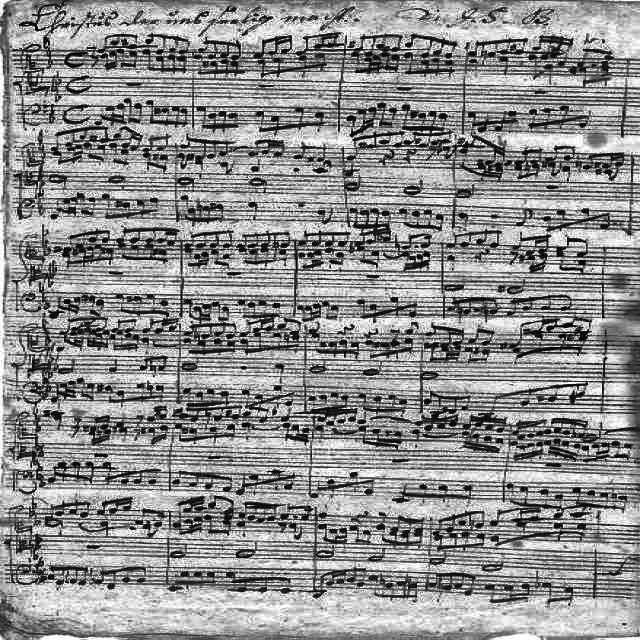Bass-clef: (60, 103, 92, 125), (61, 46, 88, 70), (64, 74, 96, 94)
Bemol: (30, 496, 42, 508), (32, 514, 42, 528), (33, 422, 43, 432), (32, 548, 40, 560), (38, 480, 48, 488), (36, 464, 44, 472)
Eighth-note: (514, 206, 534, 226), (268, 114, 286, 136), (315, 207, 337, 225), (292, 106, 308, 130), (464, 572, 478, 598), (596, 213, 616, 231), (296, 34, 312, 56), (558, 102, 572, 126), (195, 104, 209, 128), (312, 574, 326, 598), (487, 230, 505, 248), (148, 196, 164, 216), (278, 575, 294, 595), (482, 584, 498, 604), (154, 33, 168, 55), (444, 36, 458, 58), (479, 110, 493, 132), (540, 581, 554, 603), (252, 40, 268, 58), (420, 34, 432, 58), (256, 576, 272, 594), (232, 578, 250, 594), (480, 327, 496, 345), (377, 101, 388, 127), (524, 108, 538, 128), (408, 208, 422, 228), (496, 109, 508, 131), (526, 107, 538, 129), (252, 110, 264, 132), (132, 101, 144, 123), (145, 99, 155, 125), (540, 105, 552, 126), (172, 468, 184, 488), (220, 472, 232, 492), (136, 564, 148, 584), (387, 105, 398, 126), (313, 112, 327, 128), (561, 586, 575, 602), (168, 35, 180, 53), (231, 41, 243, 59), (404, 31, 416, 49), (434, 213, 446, 231), (188, 469, 200, 487), (80, 500, 92, 518), (94, 567, 106, 585), (88, 196, 98, 217), (115, 226, 128, 242), (96, 499, 108, 516), (209, 38, 219, 58), (228, 112, 240, 128), (100, 228, 112, 244), (446, 232, 458, 248), (132, 468, 144, 484), (179, 106, 189, 125), (311, 229, 321, 247), (298, 230, 308, 247), (148, 468, 156, 484), (144, 32, 154, 44)
Half-note: (237, 177, 279, 197), (394, 180, 436, 198), (174, 175, 210, 195), (46, 170, 74, 193), (478, 552, 510, 572), (232, 541, 264, 559), (359, 361, 388, 379), (168, 543, 192, 563), (452, 183, 480, 200), (428, 550, 456, 566), (364, 548, 392, 564), (342, 178, 366, 196), (305, 360, 329, 378), (316, 544, 338, 562)
Quarter-note: (110, 358, 130, 372), (274, 361, 286, 384)
Sixteenth-note: (502, 584, 518, 602), (519, 582, 533, 600), (452, 327, 466, 345), (494, 436, 506, 456), (372, 426, 384, 446), (168, 228, 180, 248), (180, 402, 192, 420), (614, 150, 626, 167), (571, 442, 581, 462), (67, 378, 77, 398), (202, 301, 212, 321), (338, 526, 349, 544), (471, 433, 482, 451), (551, 438, 561, 457), (327, 570, 337, 586), (195, 496, 205, 512), (535, 440, 545, 456), (313, 302, 323, 318), (602, 442, 610, 460), (169, 318, 179, 332)
